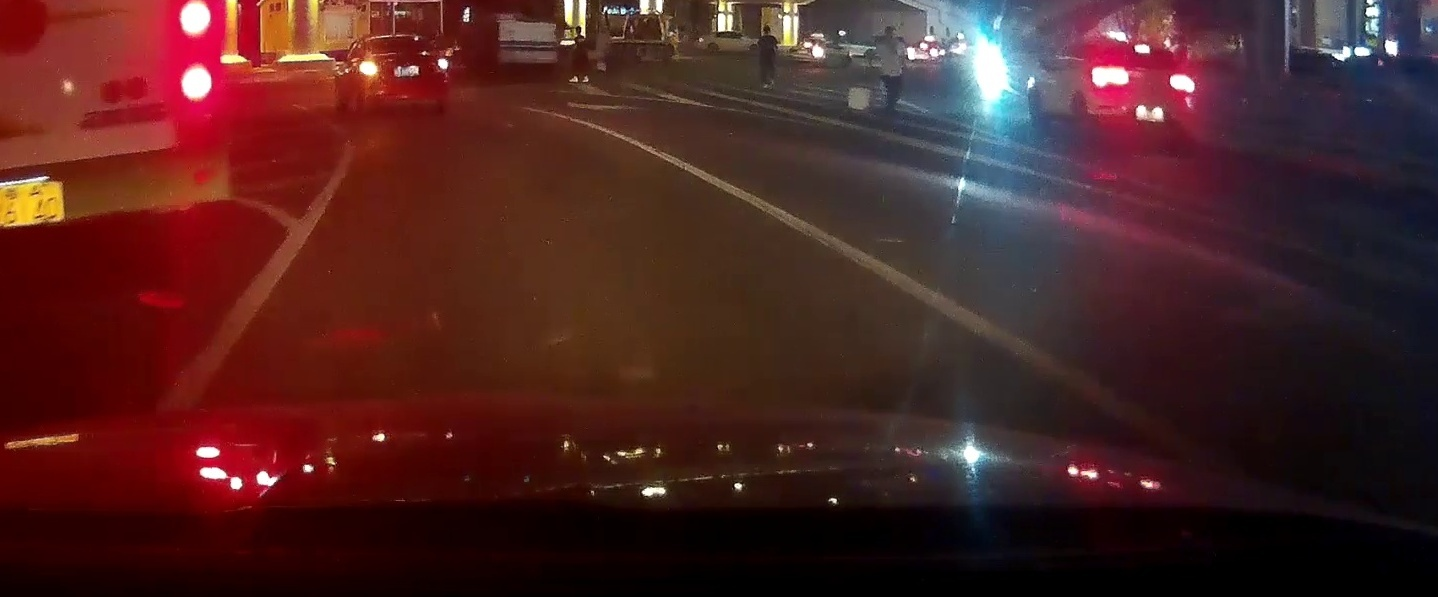L_light: (1092, 68, 1129, 85), (361, 61, 379, 77)
R_light: (1170, 75, 1193, 91), (435, 59, 447, 72)
T_light: (1135, 46, 1151, 54), (394, 37, 407, 40)
night-brake: (1088, 43, 1194, 142)
night-left: (361, 35, 449, 118)
